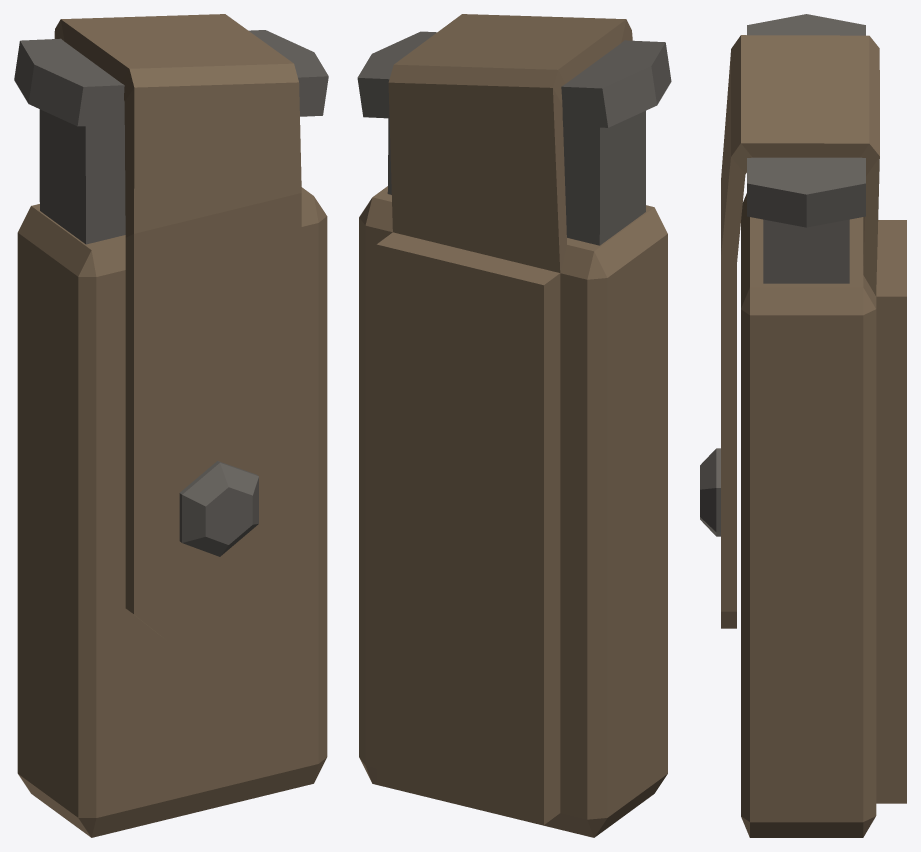
File: Magazine_Pouch_05_SM.FBX
The picture shows the model from 3 angles, left to right: view 1: azimuth 30°, elevation 25°; view 2: azimuth 150°, elevation 25°; view 3: azimuth 270°, elevation 25°; orthographic projection. The views are drawn at different scales.
Parts seen in each view (by area): view 1: Magazine_Pouch_05_SM; view 2: Magazine_Pouch_05_SM; view 3: Magazine_Pouch_05_SM.
Part boxes in pixels (<box>): Magazine_Pouch_05_SM: <box>14,14,328,837</box>; Magazine_Pouch_05_SM: <box>357,14,671,837</box>; Magazine_Pouch_05_SM: <box>700,14,906,837</box>.
Size of what is drawn, in the model's own units: 5.2 by 3.48 by 13.3.
